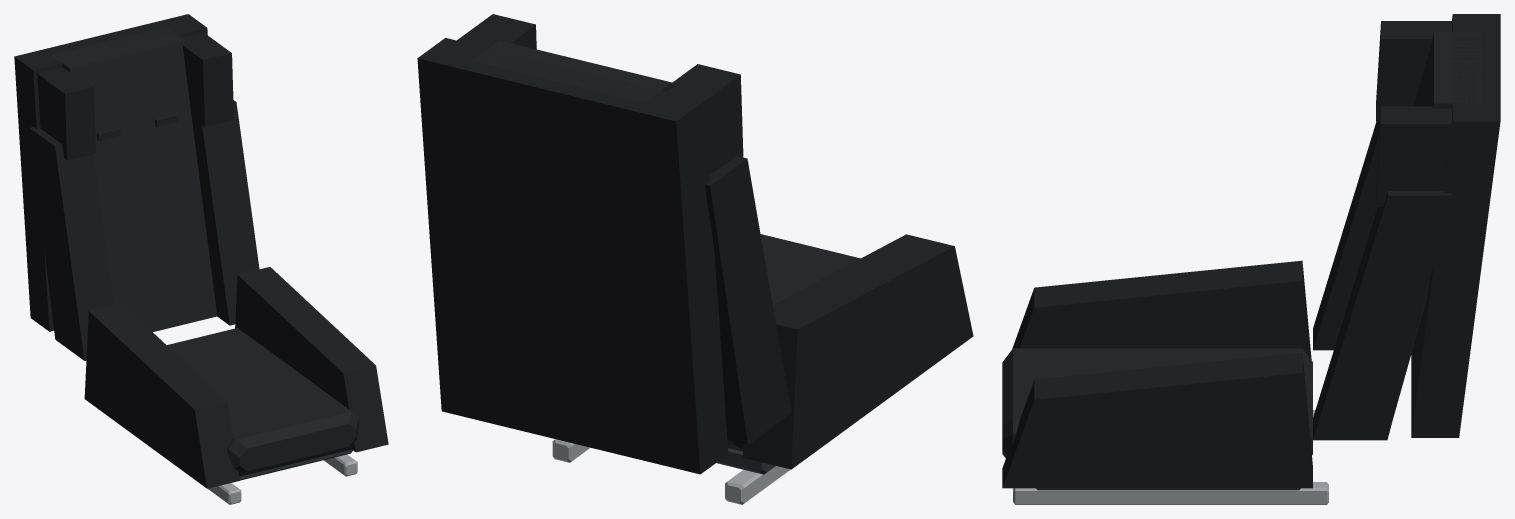
Rendered from apex_v8.glb.
3 renders of one model, left to right at view 1: azimuth 30°, elevation 25°; view 2: azimuth 150°, elevation 25°; view 3: azimuth 270°, elevation 25°, orthographic. The views are drawn at different scales.
Parts seen in each view (by area): view 1: model; view 2: model; view 3: model.
Boxes of the visible parts, box(x1,y1,x2,y2) form: model: box(14, 14, 388, 504); model: box(417, 14, 973, 504); model: box(1002, 14, 1500, 504).
Size of the model in its own units: 0.5 by 0.8272 by 0.9379.
Materials: 4 (1 with a texture image).
